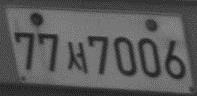0: (113, 36, 137, 77), (137, 37, 161, 77)
6: (163, 38, 186, 79)
7: (37, 30, 59, 72), (87, 34, 109, 76), (12, 30, 35, 70)
서: (66, 39, 89, 75)
